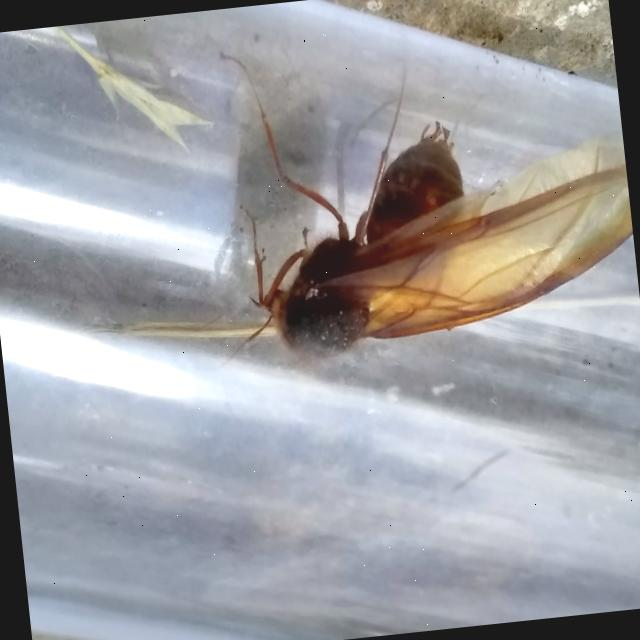Alive-Male-Alate: (196, 9, 640, 371)
